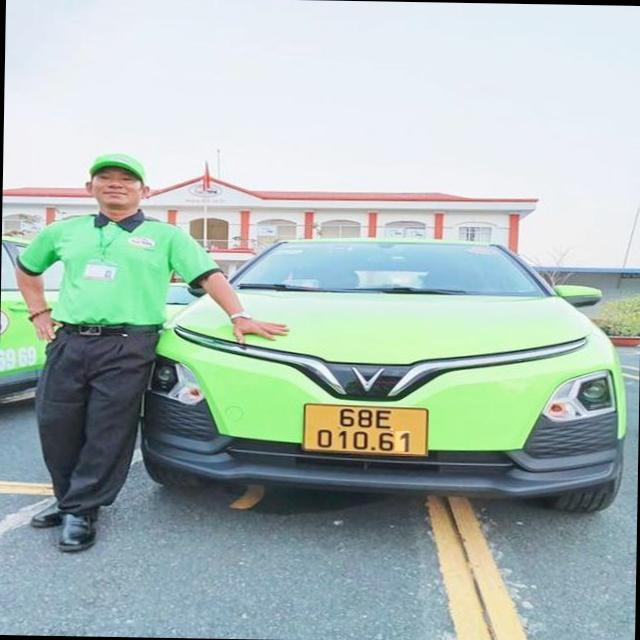car: (132, 219, 638, 520)
plate: (295, 398, 435, 462)
